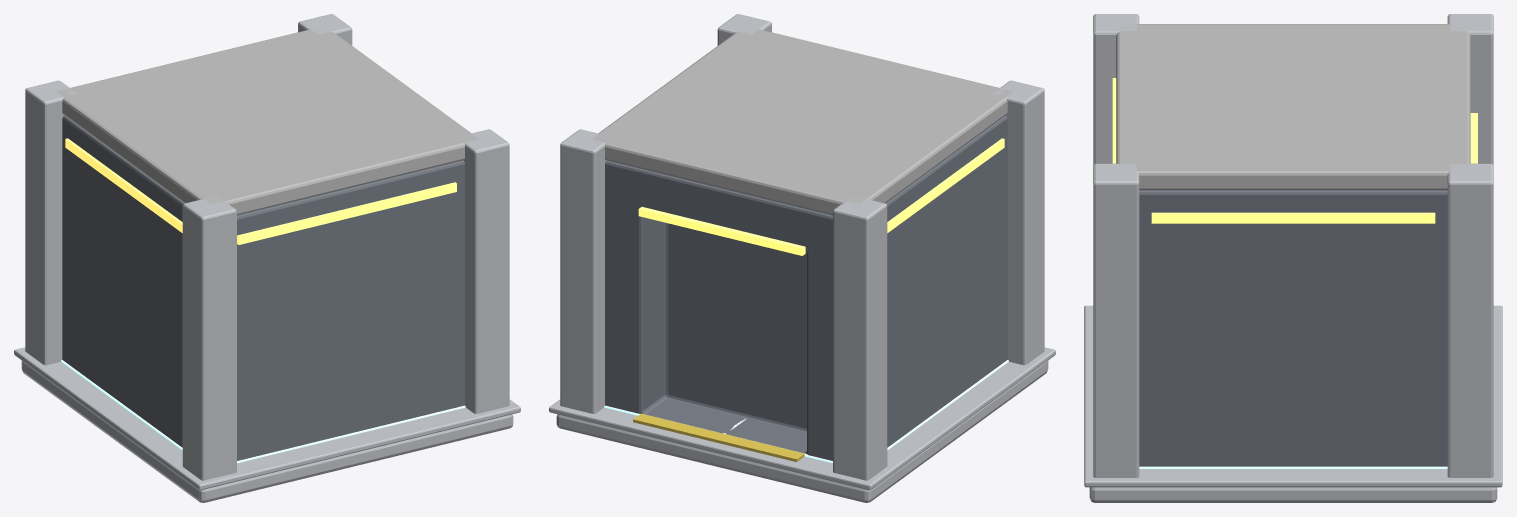
The model's file is hangar_2x2.glb.
3 renders of one model, left to right at view 1: azimuth 30°, elevation 25°; view 2: azimuth 150°, elevation 25°; view 3: azimuth 270°, elevation 25°, orthographic. The views are drawn at different scales.
Visible parts, largest first — view 1: ext_wall, int_ceiling, int_columns, int_slab_edge, int_slab, ext_stripe3, ext_stripe2, int_grid; view 2: ext_wall, int_ceiling, int_columns, int_slab_edge, int_slab, ext_door_hazard, ext_door_glow, ext_stripe2, int_grid; view 3: ext_wall, int_ceiling, int_columns, int_slab_edge, int_slab, ext_stripe0, int_grid.
Part boxes in pixels (x1,y1,x2,y2): ext_wall: (62, 115, 464, 460); int_ceiling: (57, 26, 477, 215); int_columns: (25, 14, 509, 480); int_slab_edge: (14, 347, 520, 490); int_slab: (21, 361, 513, 502); ext_stripe3: (237, 182, 456, 244); ext_stripe2: (65, 138, 182, 232); int_grid: (61, 360, 465, 463); ext_wall: (605, 115, 1007, 460); int_ceiling: (592, 27, 1012, 215); int_columns: (560, 14, 1044, 480); int_slab_edge: (549, 347, 1055, 490); int_slab: (556, 361, 1048, 502); ext_door_hazard: (633, 413, 804, 461); ext_door_glow: (638, 207, 805, 255); ext_stripe2: (887, 138, 1004, 232); int_grid: (604, 360, 1008, 463); ext_wall: (1139, 190, 1447, 466); int_ceiling: (1116, 24, 1470, 190); int_columns: (1093, 14, 1493, 477); int_slab_edge: (1084, 305, 1502, 487); int_slab: (1089, 487, 1497, 502); ext_stripe0: (1151, 212, 1435, 223); int_grid: (1139, 466, 1447, 468).
Size of the model in its own units: 2.36 by 2 by 2.36.
